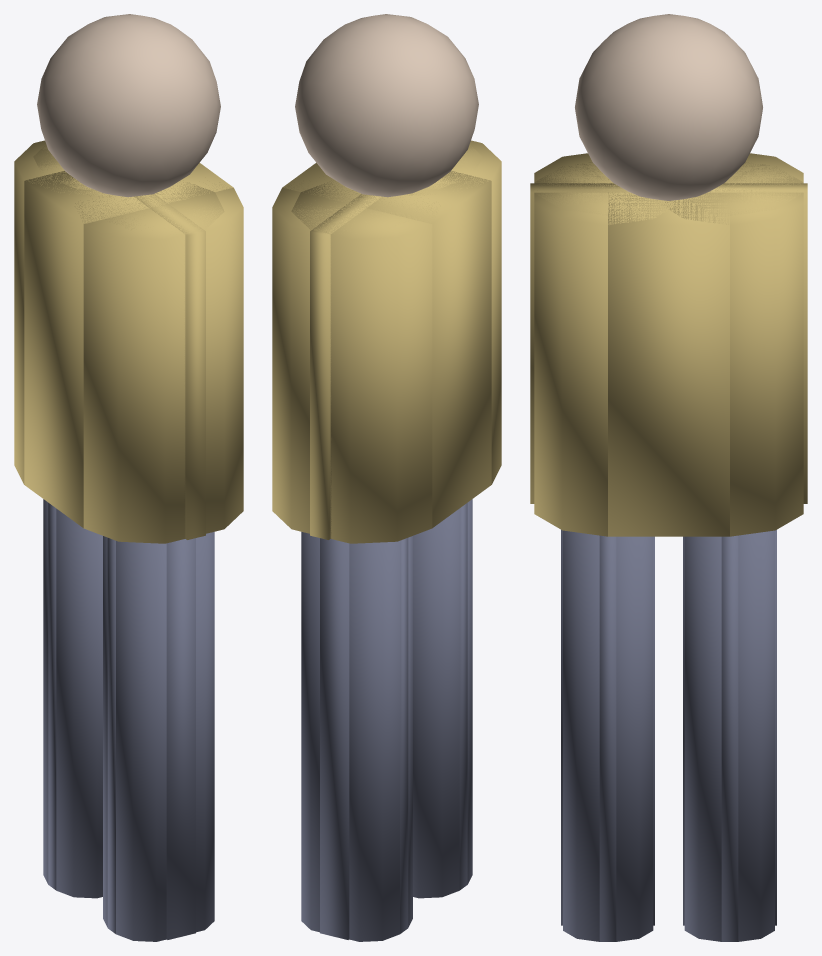
File: person_mustard.glb
3 renders of one model, left to right at view 1: azimuth 30°, elevation 25°; view 2: azimuth 150°, elevation 25°; view 3: azimuth 270°, elevation 25°, orthographic. The views are drawn at different scales.
Parts seen in each view (by area): view 1: person_mustard; view 2: person_mustard; view 3: person_mustard.
Part boxes in pixels (<box>): person_mustard: <box>14,14,243,941</box>; person_mustard: <box>272,14,501,941</box>; person_mustard: <box>530,14,807,941</box>.
Size of the model in its own units: 0.34 by 1.78 by 0.5.
